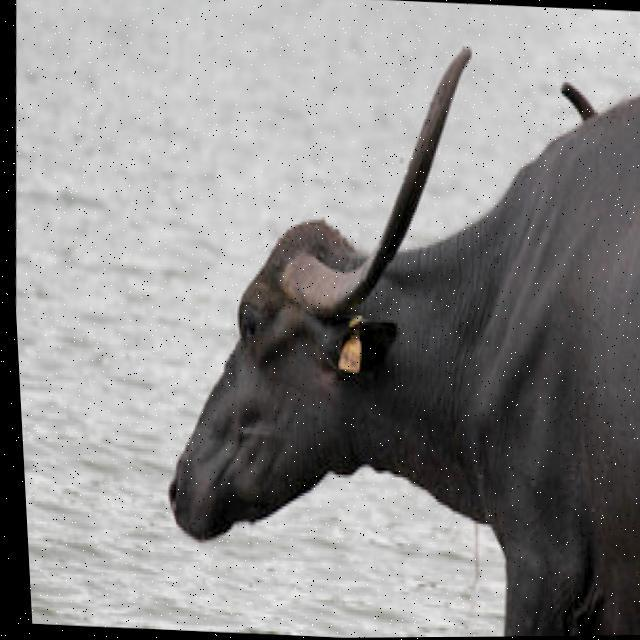Buffalo: (132, 23, 640, 639)
